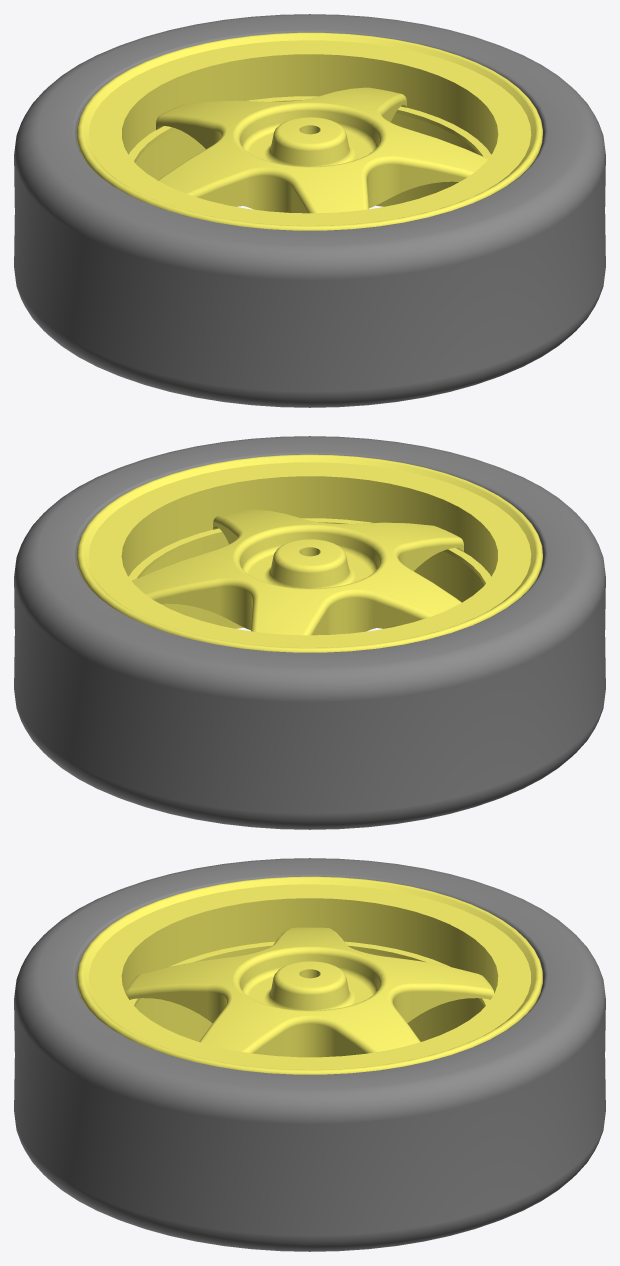
Rendered from wheel_left.glb.
3 renders of one model, top to bottom at view 1: azimuth 30°, elevation 25°; view 2: azimuth 150°, elevation 25°; view 3: azimuth 270°, elevation 25°, orthographic.
Visible parts, largest first — view 1: wheel_left; view 2: wheel_left; view 3: wheel_left.
Part boxes in pixels (x1=…): wheel_left: x1=14, y1=14, x2=605, y2=407; wheel_left: x1=14, y1=436, x2=605, y2=829; wheel_left: x1=14, y1=858, x2=605, y2=1251.
Bounding box in the file's own units: 0.066 × 0.025 × 0.066.
